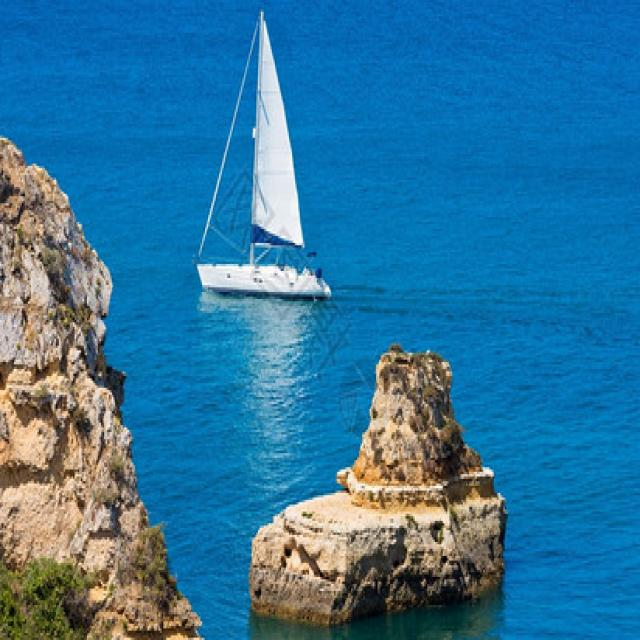sailboat: (194, 0, 334, 294)
